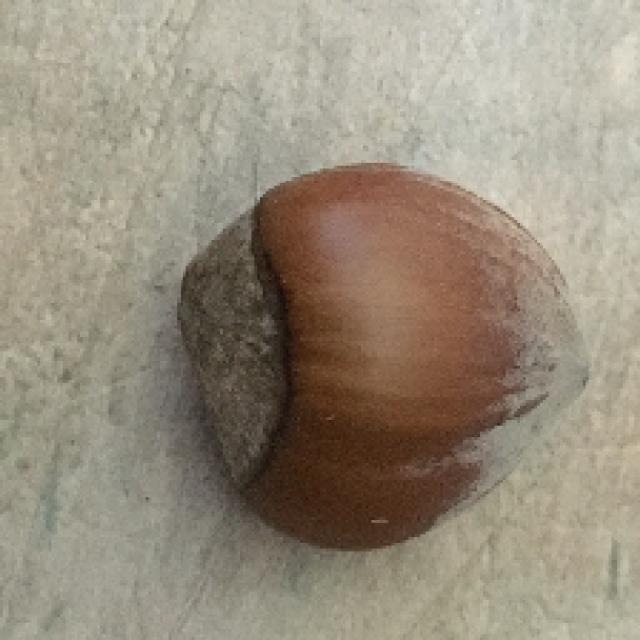qualityHazelnut: (179, 162, 593, 553)
